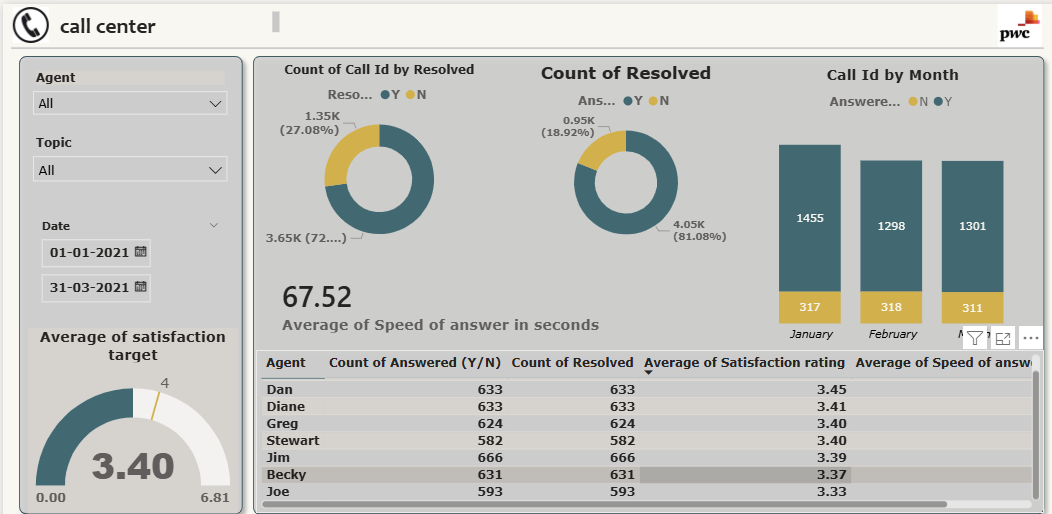

The dashboard page shown, as its layout file describes it:
{"tool":"powerbi","page":{"name":"Page 1","canvas":[1280,720],"ordinal":0},"visuals":[{"type":"image","box":[8.6,2.9,43.5,40.3],"z":0,"group":"g1"},{"type":"image","box":[1103,0,53.3,49],"z":0},{"type":"shape","box":[8.6,28.8,1147.7,40.3],"z":1000},{"type":"shape","box":[8.6,49,266.4,527],"z":2000},{"type":"textbox","box":[52.1,2.9,260.3,36.1],"z":3000,"group":"g1"},{"type":"shape","box":[269.3,49,897.1,527],"z":3000},{"type":"group","id":"g1","title":"Group 1","box":[8.6,2.9,303.8,40.3],"z":4000},{"type":"slicer","fields":{"Values":["CC CALL CENTER.Agent"]},"box":[23.3,68.9,235.6,61.1],"z":5000},{"type":"slicer","fields":{"Values":["CC CALL CENTER.Topic"]},"box":[23,141.1,236.2,86.4],"z":6000},{"type":"slicer","fields":{"Values":["CC CALL CENTER.Date"]},"box":[30.2,234.7,221.8,112.3],"z":7000},{"type":"gauge","title":"Average of satisfaction target","fields":{"Y":["CC CALL CENTER.Satisfaction rating"],"TargetValue":["CC CALL CENTER.rating target"]},"box":[27.4,360,233.3,205.9],"z":9000},{"type":"donutChart","fields":{"Y":["CC CALL CENTER.Call Id"],"Category":["CC CALL CENTER.Resolved"]},"box":[275,64.8,285.1,216],"z":10000},{"type":"donutChart","title":"Count of Resolved ","fields":{"Y":["CC CALL CENTER.Resolved"],"Category":["CC CALL CENTER.Answered (Y/N)"]},"box":[563,64.8,257.8,216],"z":11000},{"type":"columnChart","title":"Call Id by Month ","fields":{"Category":["CC CALL CENTER.Date.Variation.Date Hierarchy.Month"],"Y":["CC CALL CENTER.Call Id"],"Series":["CC CALL CENTER.Answered (Y/N)"]},"box":[820.8,69.1,335.5,315.4],"z":12000},{"type":"cardVisual","title":"Average of speed","fields":{"Data":["CC CALL CENTER.Speed of answer in seconds"]},"box":[280.8,280.8,545.8,93.6],"z":13000},{"type":"tableEx","fields":{"Values":["CC CALL CENTER.Agent","CC CALL CENTER.Answered (Y/N)","CC CALL CENTER.Resolved","CC CALL CENTER.Satisfaction rating","CC CALL CENTER.Speed of answer in seconds"]},"box":[280.8,384.5,875.5,181.4],"z":14000}]}

Visuals, with their boxes on the page's 1280x720 design canvas (x1, y1, x2, y2). These are canvas units, not pixel positions in the 1052x514 screenshot, which may show the page scaled, cropped or inside an application window:
image: box=[9, 3, 52, 43]
image: box=[1103, 0, 1156, 49]
shape: box=[9, 29, 1156, 69]
shape: box=[9, 49, 275, 576]
textbox: box=[52, 3, 312, 39]
shape: box=[269, 49, 1166, 576]
"Group 1" group: box=[9, 3, 312, 43]
slicer - CC CALL CENTER.Agent: box=[23, 69, 259, 130]
slicer - CC CALL CENTER.Topic: box=[23, 141, 259, 228]
slicer - CC CALL CENTER.Date: box=[30, 235, 252, 347]
"Average of satisfaction target" gauge: box=[27, 360, 261, 566]
donutChart - CC CALL CENTER.Call Id x CC CALL CENTER.Resolved: box=[275, 65, 560, 281]
"Count of Resolved " donutChart: box=[563, 65, 821, 281]
"Call Id by Month " columnChart: box=[821, 69, 1156, 384]
"Average of speed" cardVisual: box=[281, 281, 827, 374]
tableEx - CC CALL CENTER.Agent x CC CALL CENTER.Answered (Y/N): box=[281, 384, 1156, 566]
